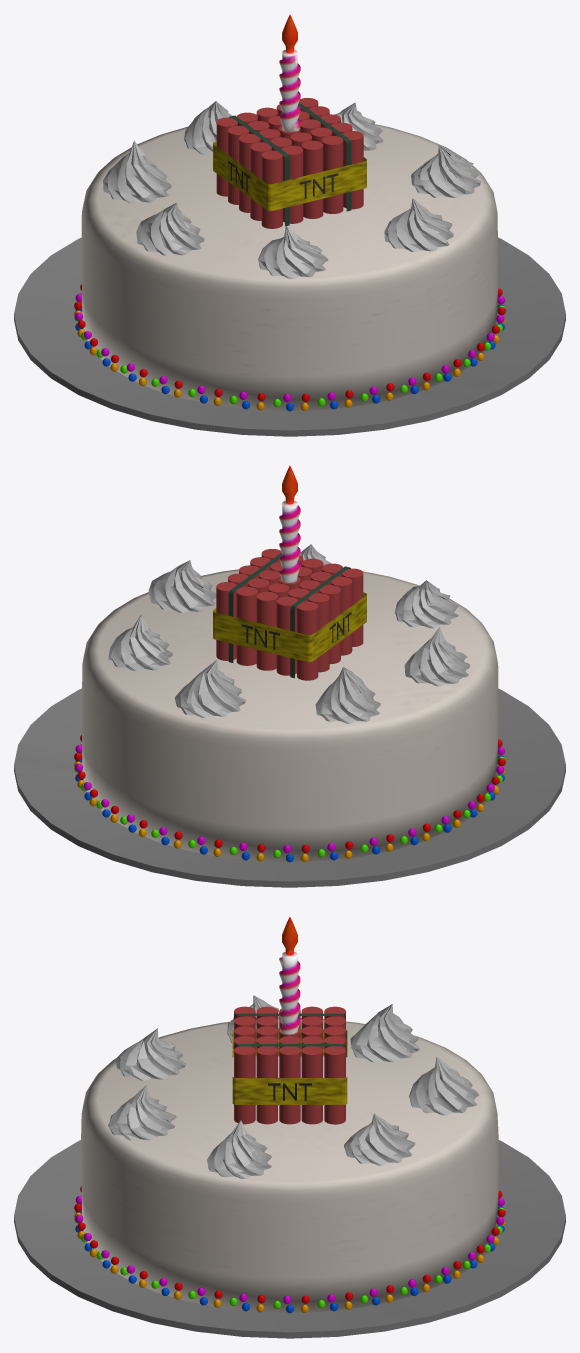
The model's file is Explosive Cake.fbx.
3 renders of one model, top to bottom at view 1: azimuth 30°, elevation 25°; view 2: azimuth 150°, elevation 25°; view 3: azimuth 270°, elevation 25°, orthographic.
Visible parts, largest first — view 1: CAKE cake; view 2: CAKE cake; view 3: CAKE cake.
Part boxes in pixels (bbox=[...]): CAKE cake: bbox=[14, 14, 565, 436]; CAKE cake: bbox=[14, 465, 565, 887]; CAKE cake: bbox=[14, 917, 565, 1338].
Bounding box in the file's own units: 36.23 × 22.72 × 36.24.
1 material, 1 textured.
